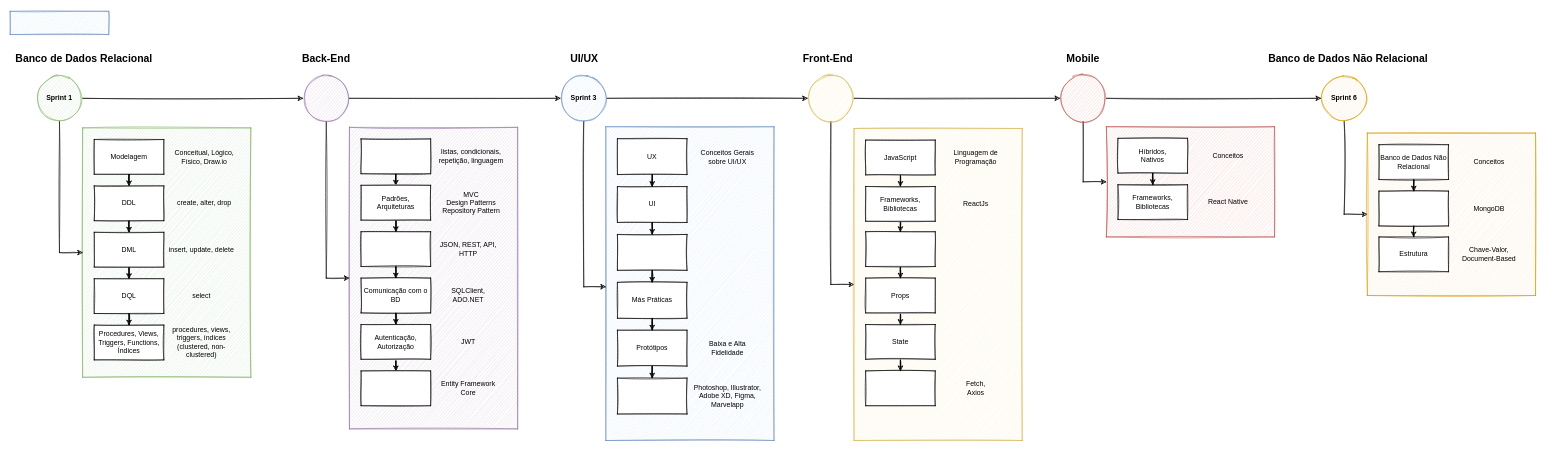
The diagram is 1546 pixels wide and 451 high, and some of its shapes have lost their labels. Each missing label, with the box of its shape:
Boas Práticas: (617, 234, 687, 270)
C#: (360, 138, 431, 174)
Components: (865, 231, 935, 267)
Ferramentas: (617, 378, 687, 414)
ORM Frameworks: (360, 370, 431, 406)
Requests: (865, 370, 935, 406)
Sprint 2: (302, 75, 349, 122)
Sprint 4: (807, 75, 854, 122)
Sprint 5: (1059, 75, 1106, 122)
Tipos: (1378, 191, 1449, 226)
Visão Geral: (10, 11, 109, 35)
Web Api: (360, 231, 431, 267)
